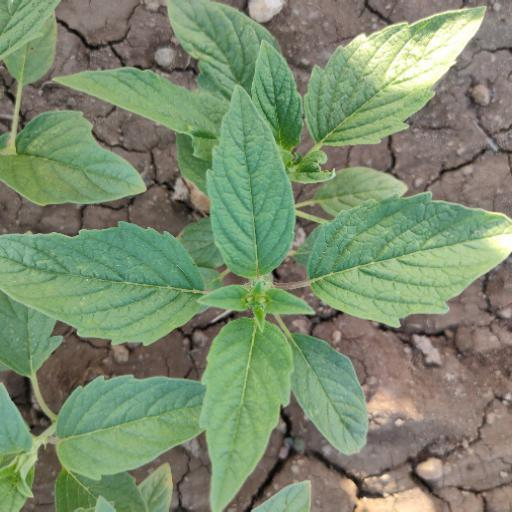crop: (9, 1, 505, 500)
